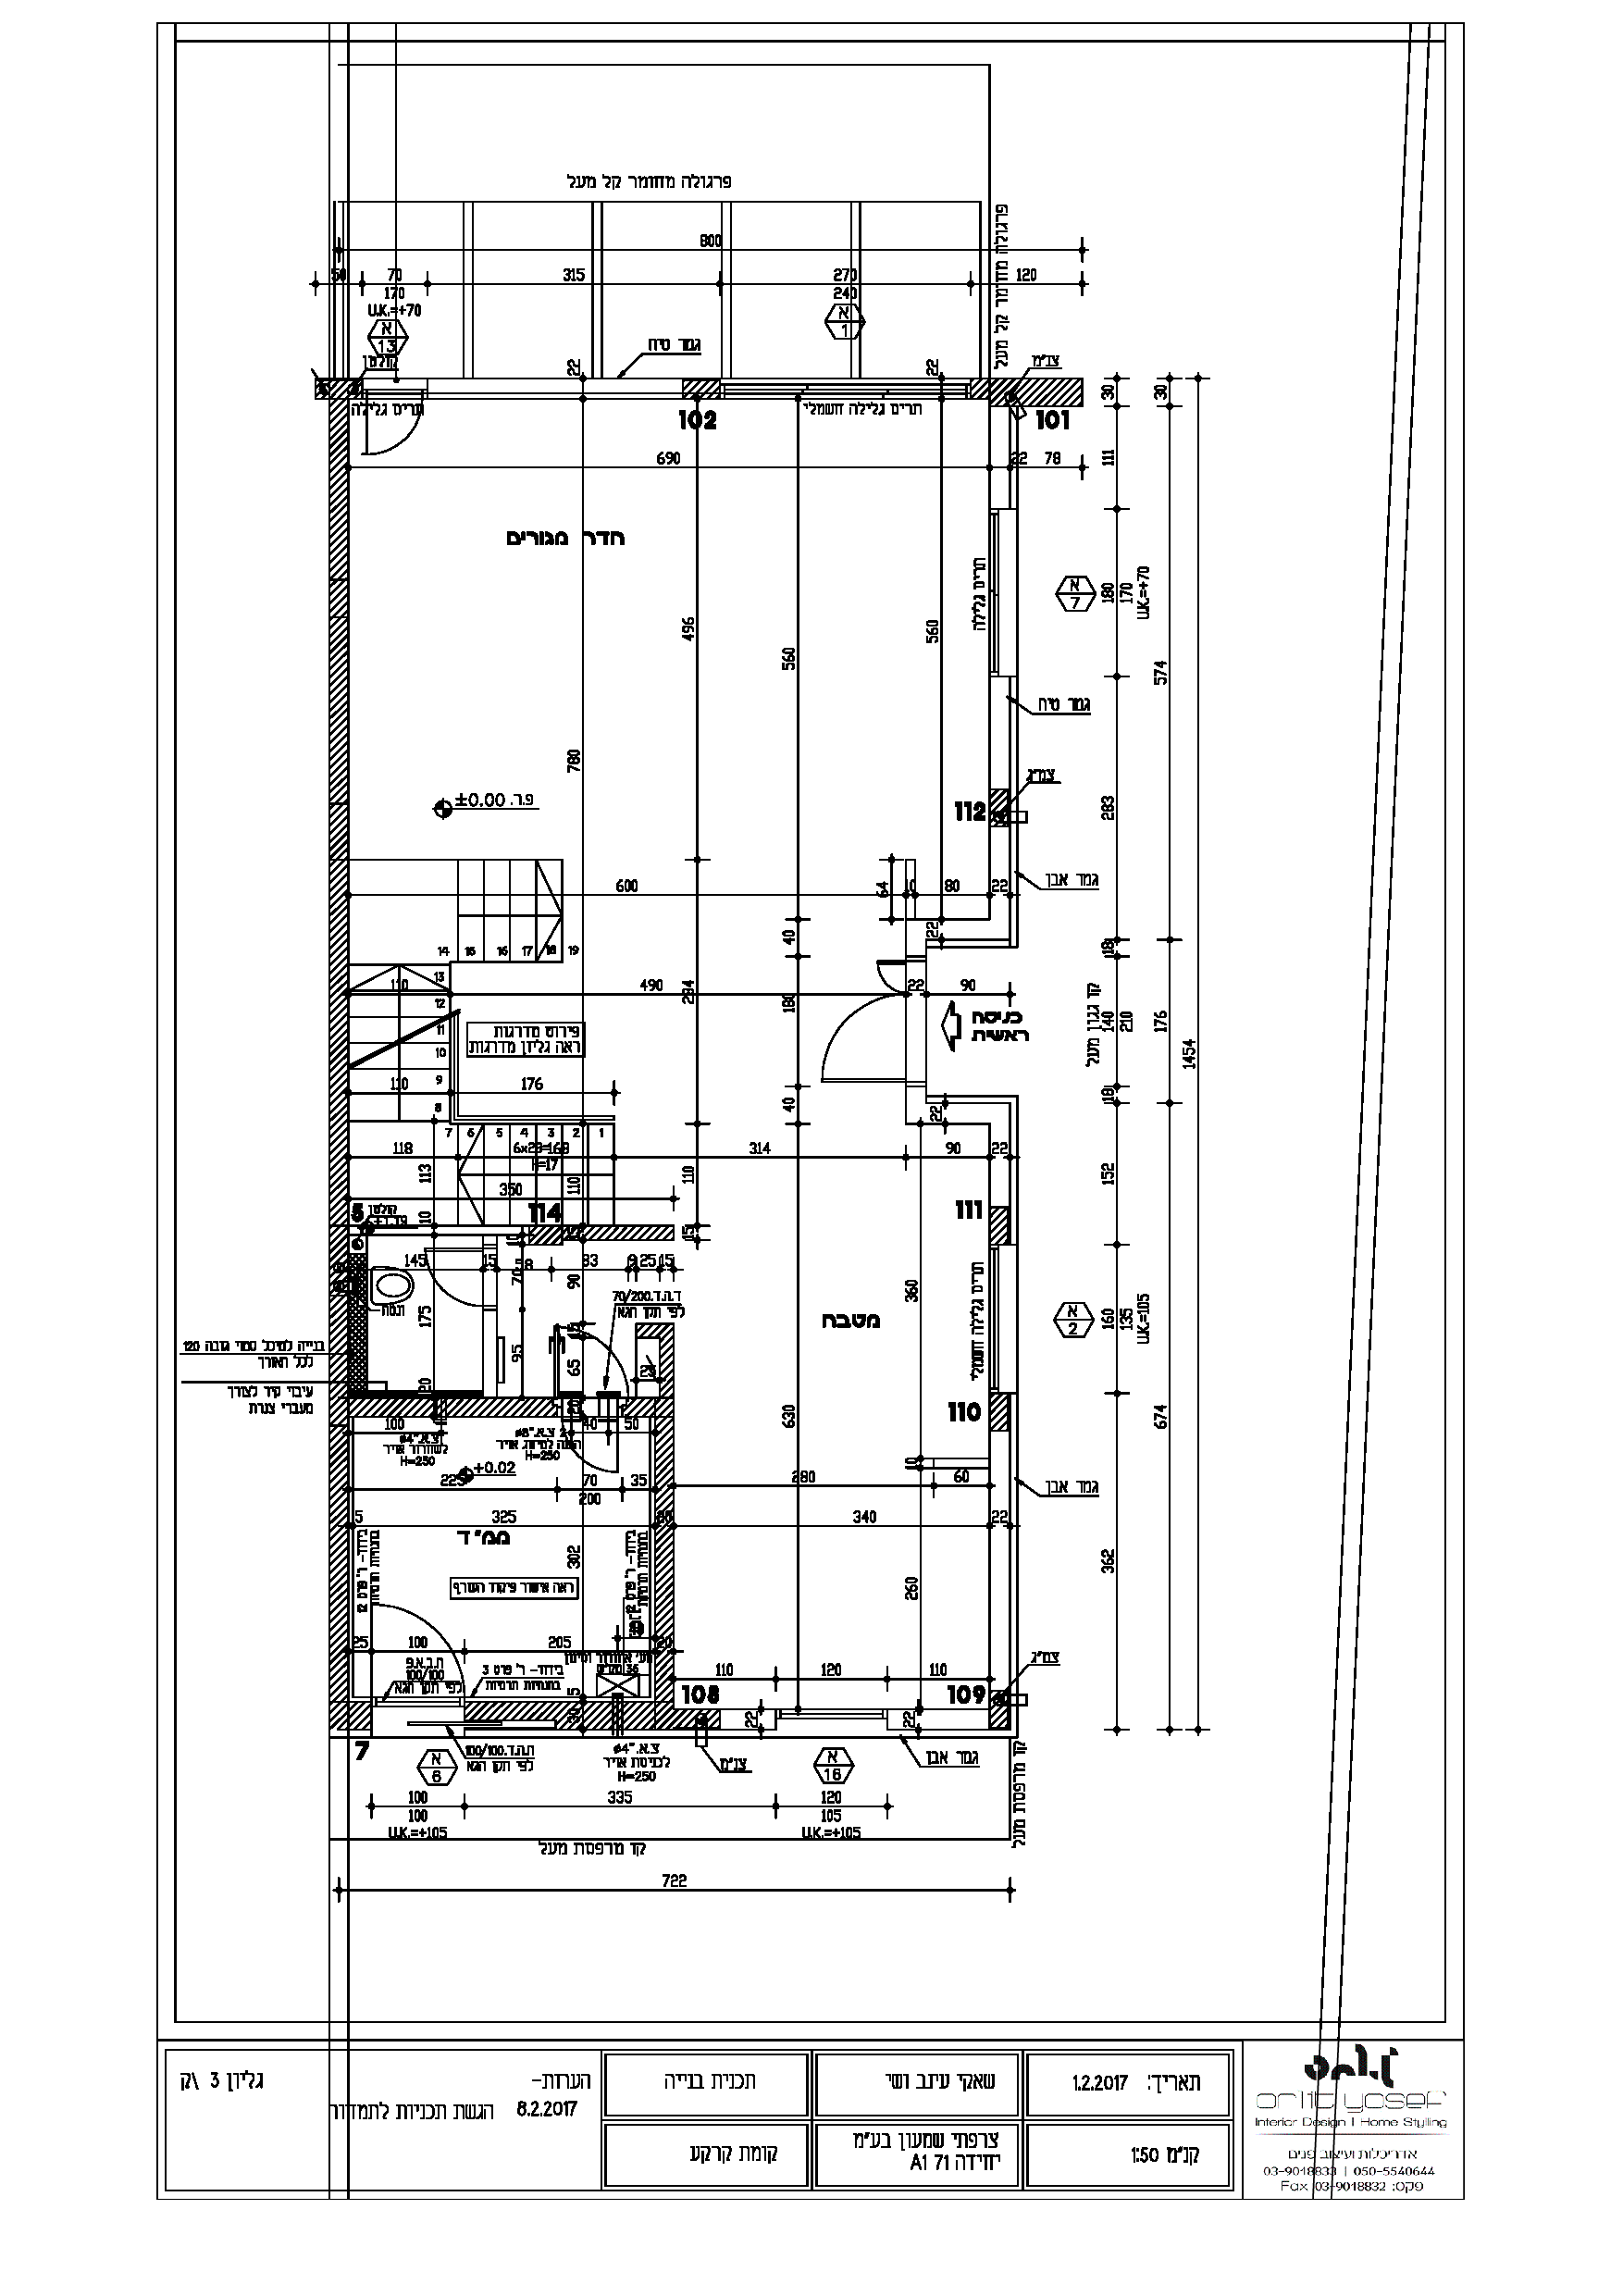door: (813, 1000, 901, 1107)
wall: (328, 401, 348, 1158)
window: (987, 513, 998, 676), (989, 1249, 999, 1391), (369, 1697, 467, 1709), (775, 1708, 889, 1718)
